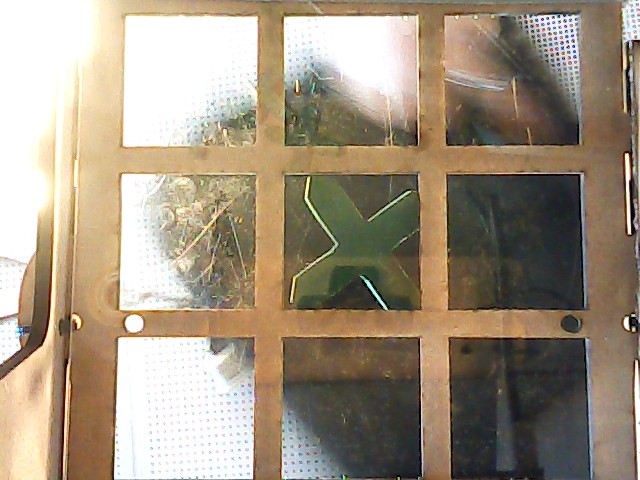X: (297, 174, 419, 312)
